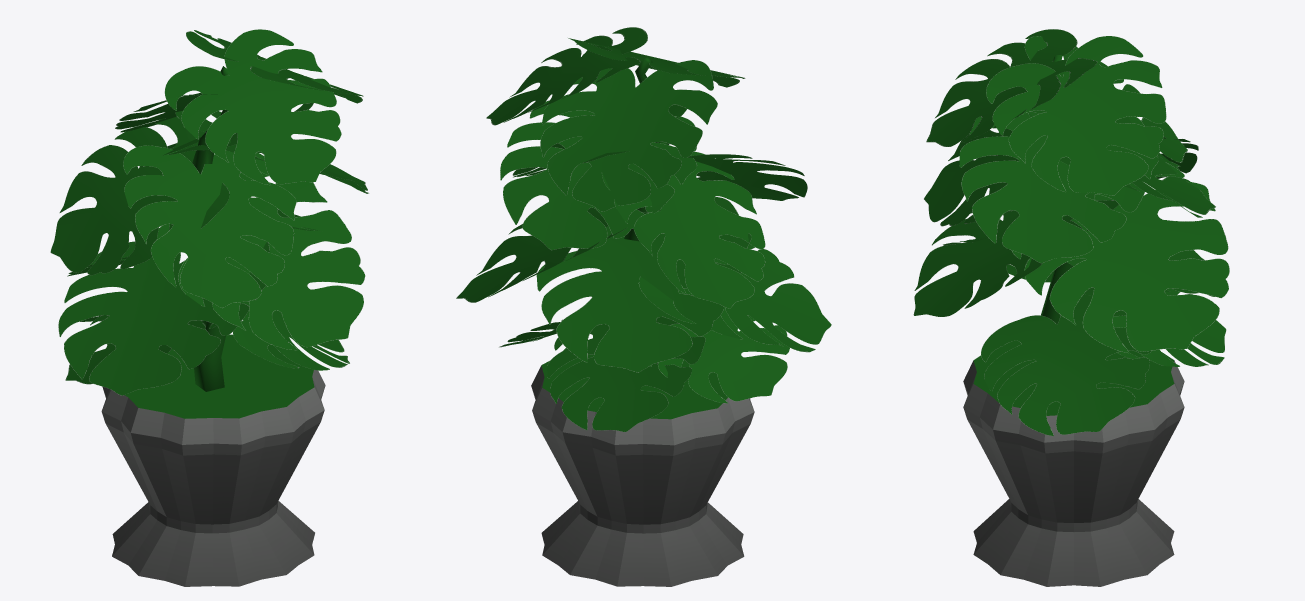
File: planter1.fbx
3 renders of one model, left to right at view 1: azimuth 30°, elevation 25°; view 2: azimuth 150°, elevation 25°; view 3: azimuth 270°, elevation 25°, orthographic.
Parts seen in each view (by area): view 1: Cylinder.003; view 2: Cylinder.003; view 3: Cylinder.003.
Boxes of the visible parts, x1,y1,x2,y2 form: Cylinder.003: (50, 29, 368, 586); Cylinder.003: (456, 27, 831, 586); Cylinder.003: (913, 29, 1229, 586).
Size of the model in its own units: 0.9206 by 1.2 by 0.8865.
2 materials, 2 textured.
